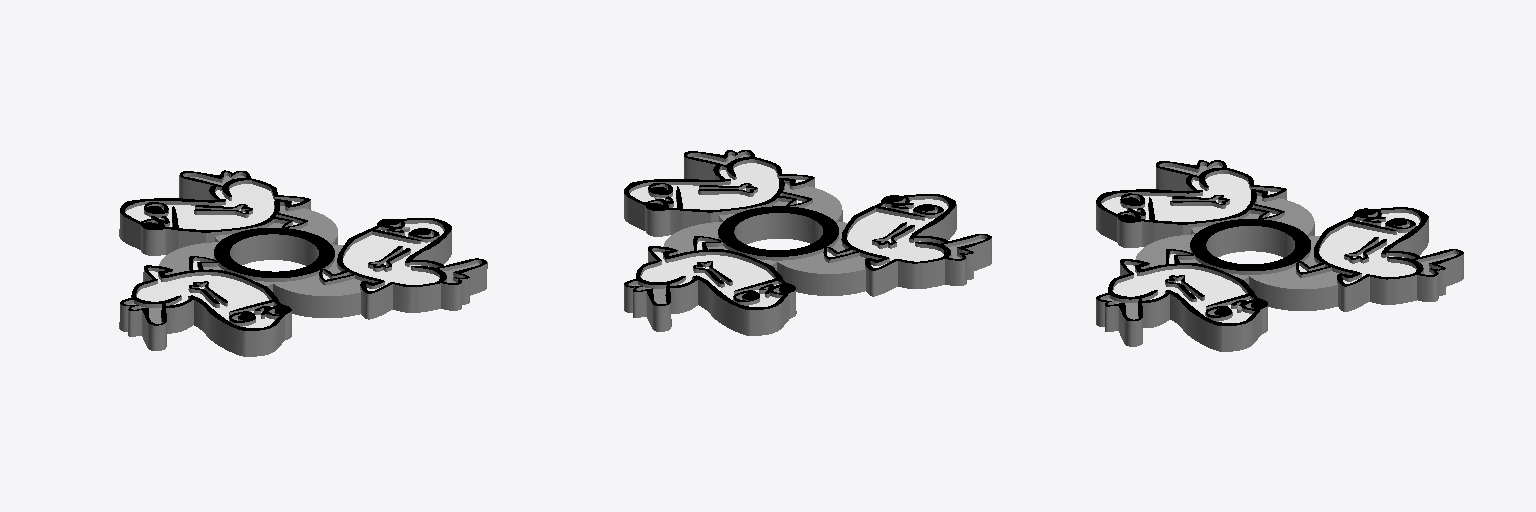
The model's file is Dickbutt_Spinner_8mm.obj.
3 renders of one model, left to right at view 1: azimuth 30°, elevation 25°; view 2: azimuth 150°, elevation 25°; view 3: azimuth 270°, elevation 25°, orthographic.
Parts seen in each view (by area): view 1: Object.1; view 2: Object.1; view 3: Object.1.
Part boxes in pixels (x1,y1,x2,y2): Object.1: (119,170,487,356); Object.1: (624,150,991,335); Object.1: (1096,160,1463,351).
Size of the model in its own units: 14.25 by 1.2 by 13.62.